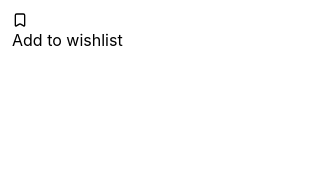
Test: library integration › publishes confirmed saved state to cached aliases before a slow background refresh
The width and height of the screenshot is (332, 172).
Click the button "Add to wishlist": (67, 32) top-left (12, 12), bottom-right (123, 52)
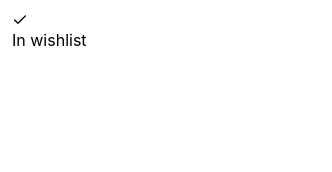
Expected: the button "In wishlist" is pressed, top-left (12, 12), bottom-right (87, 52)
